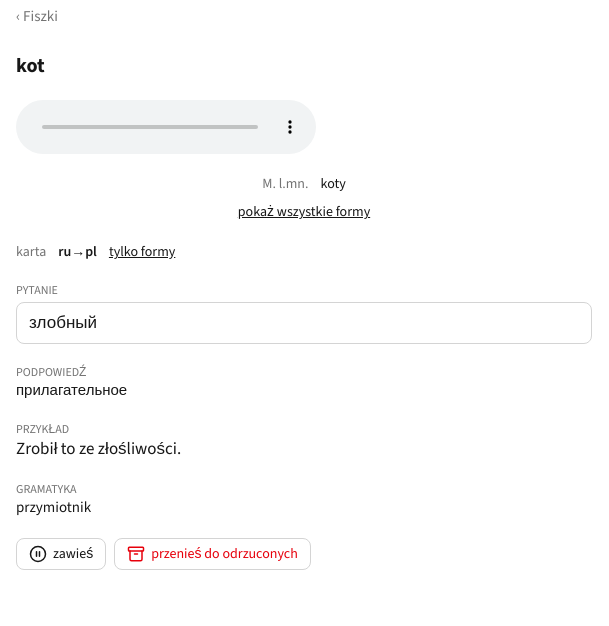
Test: CardDetailPage › says so when that card already exists
Click the button "tylko formy".
click(142, 252)  # box [109,242,175,262]
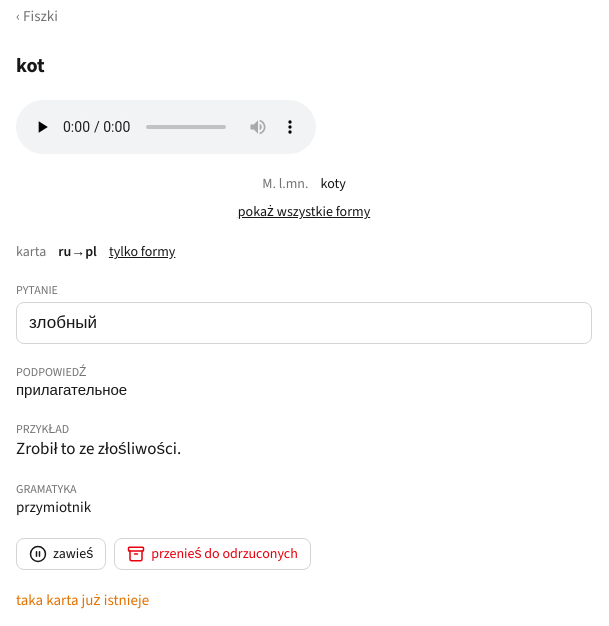
Now the text "taka karta już istnieje" is shown, box [16,590,149,610]
